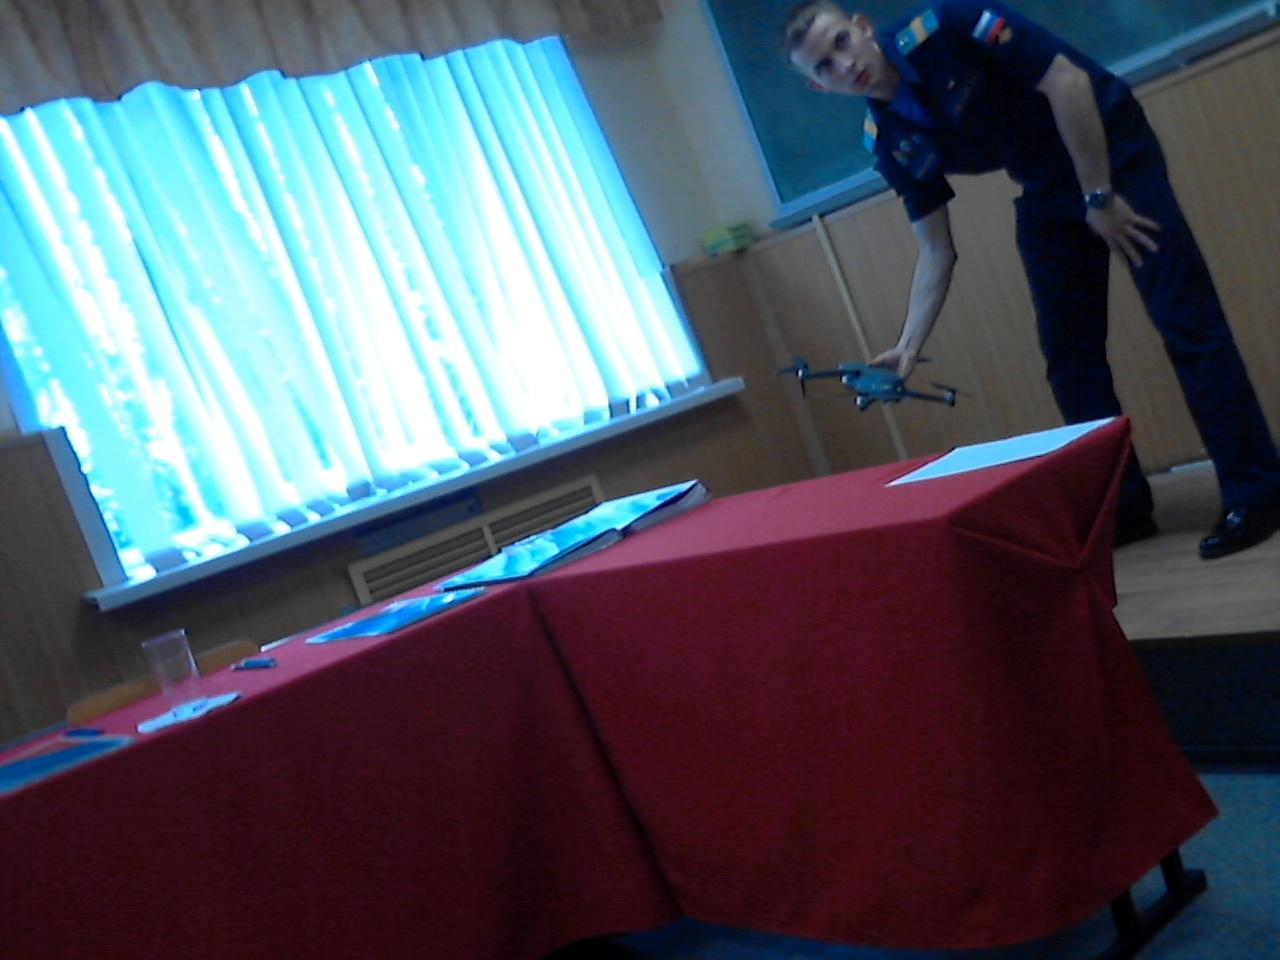drone: (768, 320, 977, 427)
